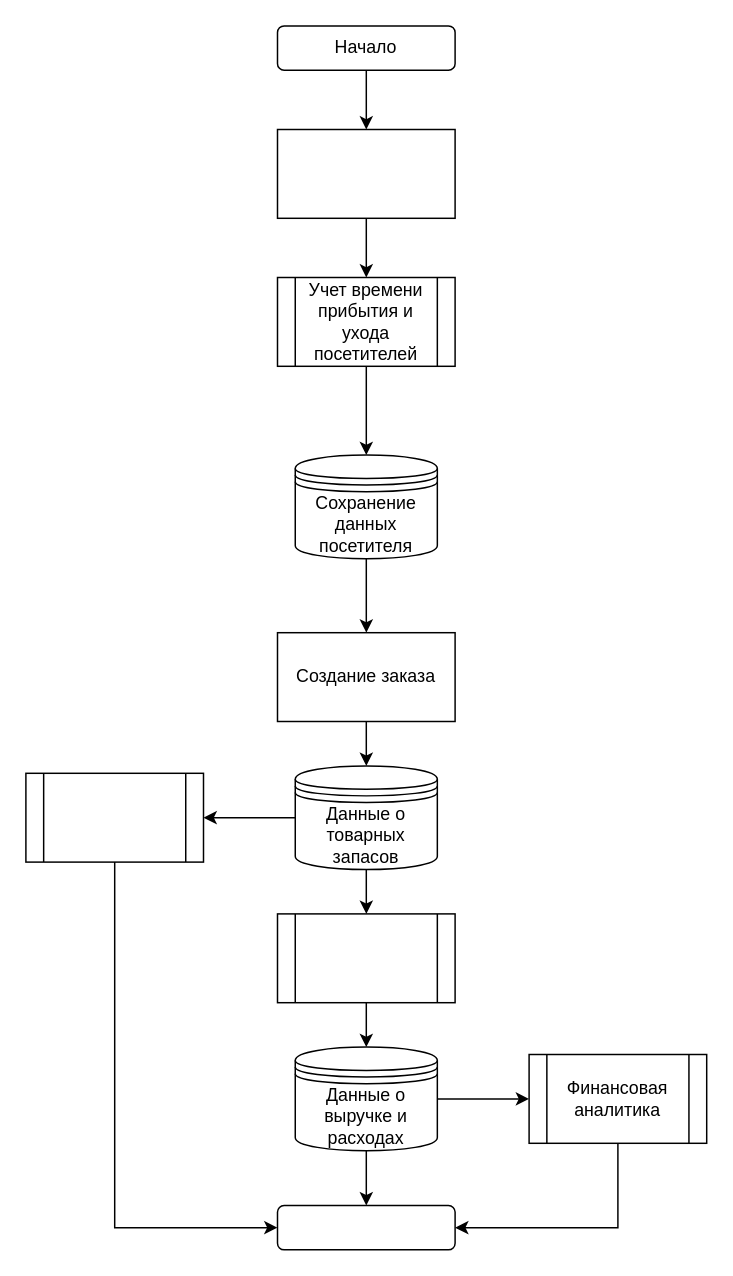
Image size: 733x1276. Some labels were removed from this diagram. Here are the shapes that lost their labels. From the top down, the centre of each, then its label:
point (365, 173): Бронирование столика
point (114, 817): Формирование заказов поставчикам
point (365, 957): Расчет клиента
point (365, 1227): Конец
